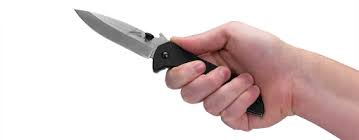knife: (72, 6, 264, 116)
